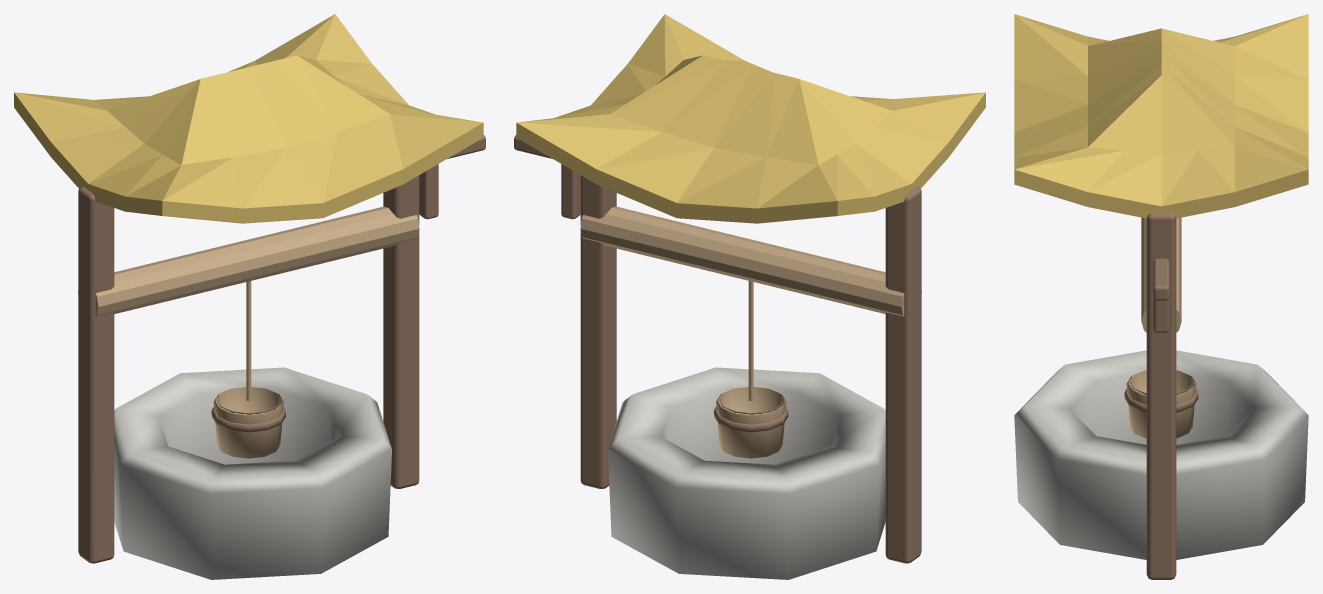
File: courtyard-well.glb
3 views of the same model, side by side, from view 1: azimuth 30°, elevation 25°; view 2: azimuth 150°, elevation 25°; view 3: azimuth 270°, elevation 25° (orthographic).
Parts seen in each view (by area): view 1: courtyard-well, windlass/wood, windlass/timber; view 2: courtyard-well, windlass/wood, windlass/timber; view 3: courtyard-well, windlass/wood, windlass/timber.
Part boxes in pixels (left/top/right/bottom): courtyard-well: left=14, top=14, right=483, bottom=579; windlass/wood: left=78, top=206, right=419, bottom=316; windlass/timber: left=419, top=135, right=485, bottom=219; courtyard-well: left=516, top=14, right=985, bottom=579; windlass/wood: left=580, top=206, right=921, bottom=316; windlass/timber: left=514, top=135, right=580, bottom=219; courtyard-well: left=1014, top=14, right=1308, bottom=579; windlass/wood: left=1141, top=217, right=1181, bottom=332; windlass/timber: left=1153, top=258, right=1169, bottom=332.
Size of the model in its own units: 2.49 by 2.7 by 1.6.
